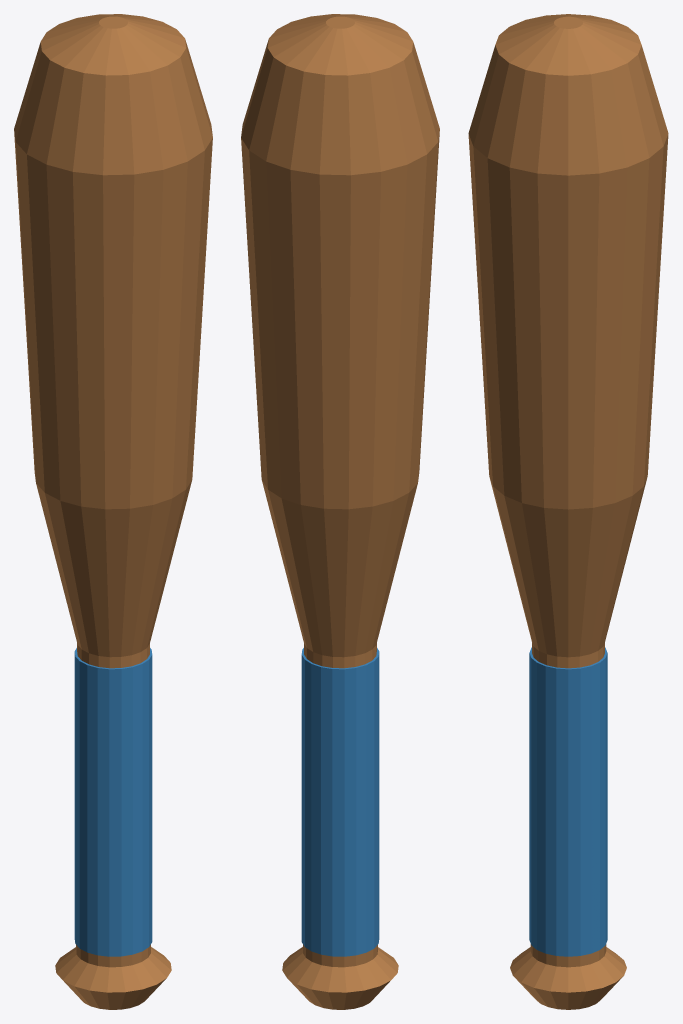
File: bat.glb
The picture shows the model from 3 angles, left to right: view 1: azimuth 30°, elevation 25°; view 2: azimuth 150°, elevation 25°; view 3: azimuth 270°, elevation 25°; orthographic projection.
Visible parts, largest first — view 1: TurnedBat, BatGrip; view 2: TurnedBat, BatGrip; view 3: TurnedBat, BatGrip.
Boxes of the visible parts, left/top/right/bottom form: TurnedBat: left=14, top=14, right=212, bottom=1009; BatGrip: left=74, top=648, right=152, bottom=956; TurnedBat: left=241, top=14, right=439, bottom=1009; BatGrip: left=301, top=648, right=379, bottom=956; TurnedBat: left=468, top=14, right=668, bottom=1009; BatGrip: left=529, top=647, right=607, bottom=956.
Size of the model in its own units: 0.164 by 0.88 by 0.164.
